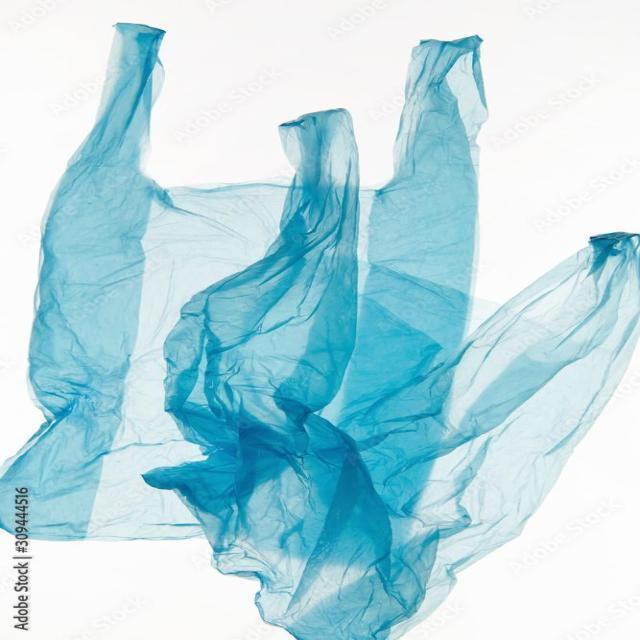Plastic_Bag: (37, 10, 629, 630)
